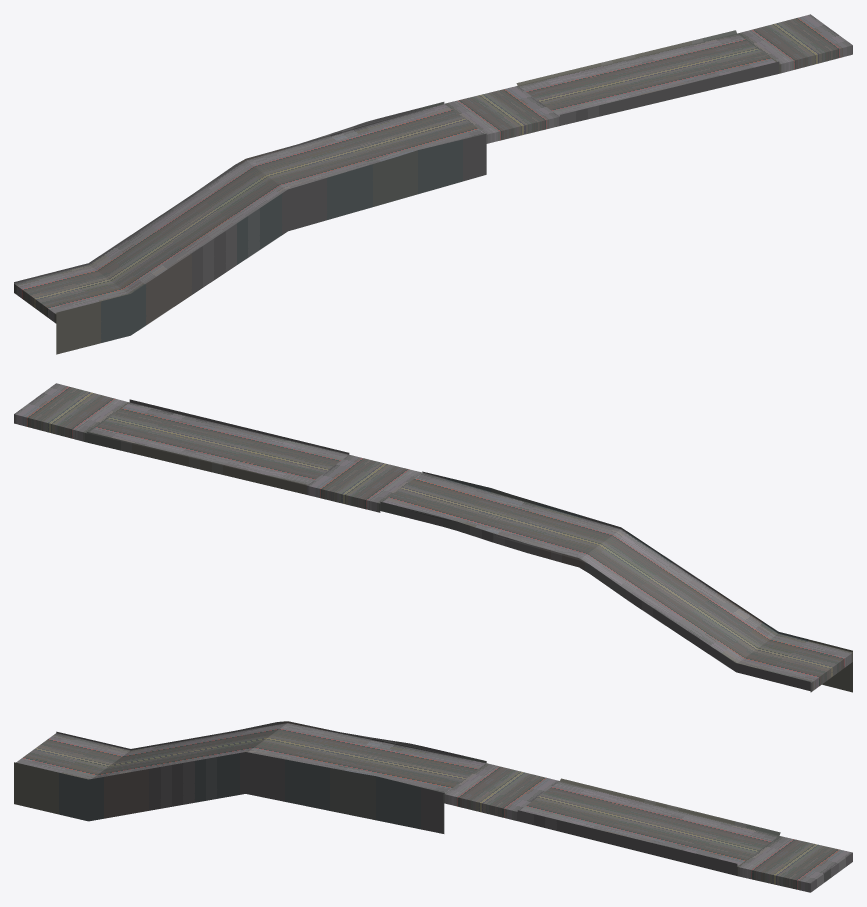
File: lodroads_sfw55.obj
3 views of the same model, one above another, from view 1: azimuth 30°, elevation 25°; view 2: azimuth 150°, elevation 25°; view 3: azimuth 330°, elevation 25° (orthographic).
Visible parts, largest first — view 1: LODroads_sfw55; view 2: LODroads_sfw55; view 3: LODroads_sfw55.
Boxes of the visible parts, x1,y1,x2,y2 form: LODroads_sfw55: [14, 14, 852, 354]; LODroads_sfw55: [14, 383, 852, 692]; LODroads_sfw55: [14, 721, 852, 892].
Size of the model in its own units: 218 by 30.51 by 20.56.
1 material, 1 textured.
